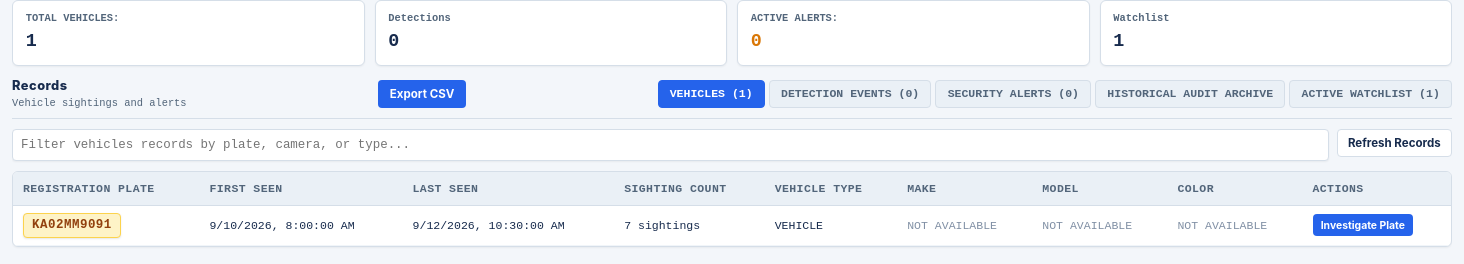
it: Phase 23A — C2 Command Center & Workspace Specifications › 11. Records workspace renders VEHICLES, EVENTS, ALERTS, and WATCHLIST tabs
The image size is (1464, 264).
Expected: the tab "VEHICLES (1)" is shown, [658, 80, 765, 108]
Expected: the tab "SECURITY ALERTS (0)" is shown, [936, 80, 1091, 108]
// Switch to EVENTS tab
Click the tab "DETECTION EVENTS (0)".
click(850, 94)  # box [769, 80, 931, 108]
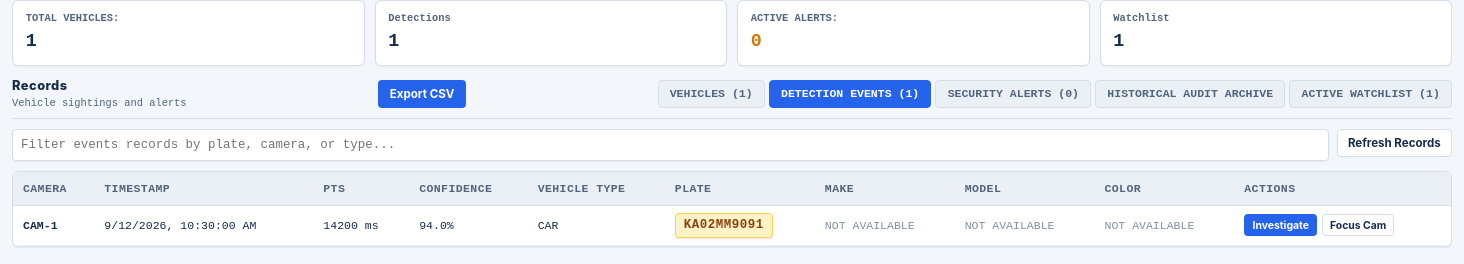
Result: the text "14200 ms" is shown at [313, 205, 409, 245]
Result: the text "94.0%" is shown at [409, 205, 528, 245]
